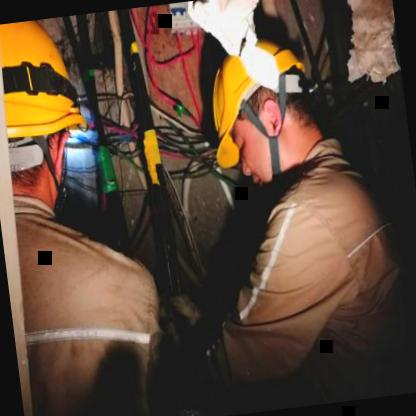helmet: (204, 32, 324, 190), (0, 14, 96, 202)
